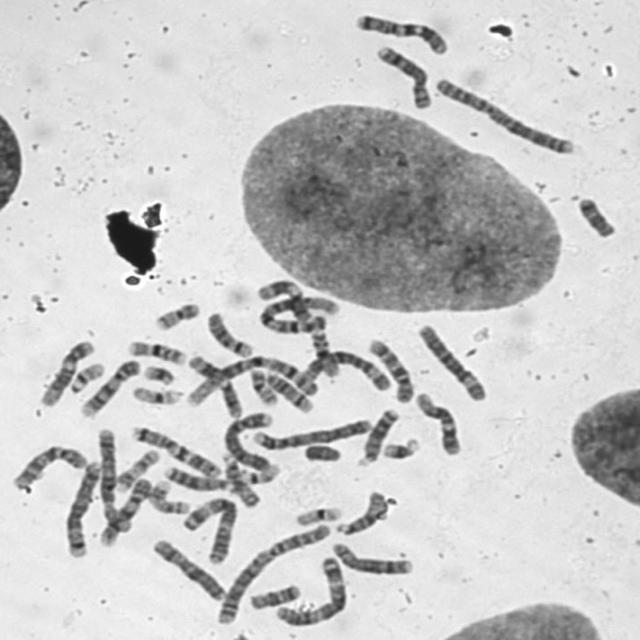A1: (183, 352, 322, 409), (256, 292, 341, 335)
A2: (212, 522, 332, 627), (429, 74, 577, 156)
A3: (271, 553, 347, 628), (179, 494, 240, 565)
B4: (248, 414, 374, 452), (222, 408, 278, 473)
B5: (60, 459, 104, 559), (94, 424, 132, 534)
C10: (9, 440, 89, 491), (365, 335, 415, 404)
C11: (185, 352, 243, 420), (253, 276, 314, 321)
C12: (37, 336, 96, 406), (412, 389, 462, 457)
C6: (415, 321, 489, 403), (296, 348, 393, 393)
C7: (128, 424, 221, 478), (351, 9, 450, 56)
C8: (373, 42, 433, 110), (329, 540, 415, 577)
C9: (95, 474, 154, 547), (77, 357, 142, 419)
D13: (353, 404, 400, 468), (162, 465, 236, 493)
D14: (260, 367, 316, 416), (203, 309, 255, 359)
D15: (332, 488, 388, 537), (219, 451, 262, 509)
E16: (125, 336, 188, 366), (307, 327, 341, 378)
E17: (112, 447, 161, 492), (146, 478, 192, 515)
E18: (572, 192, 618, 240), (246, 581, 302, 610)
F19: (128, 384, 184, 406), (292, 504, 344, 527)
F20: (152, 299, 203, 332), (247, 366, 280, 406)
G21: (380, 435, 421, 461), (142, 362, 176, 386)
G22: (66, 360, 107, 394), (238, 461, 282, 486)
X: (149, 537, 228, 603)
Y: (301, 442, 343, 464)
